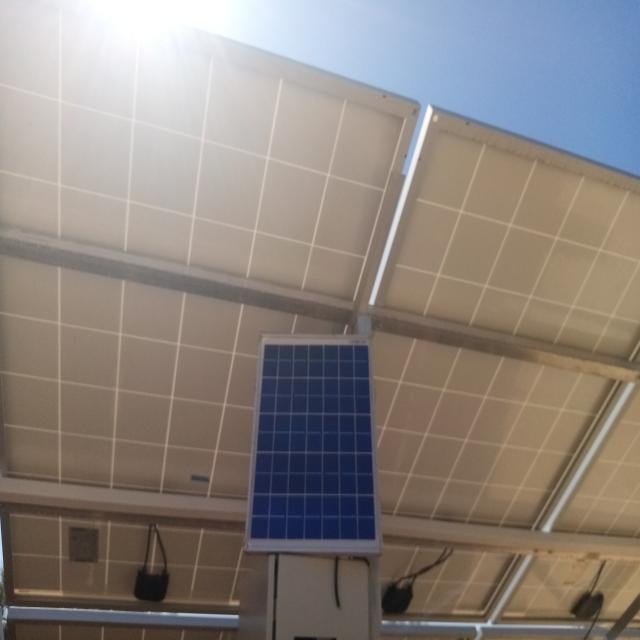no faulty: (246, 333, 381, 550)
